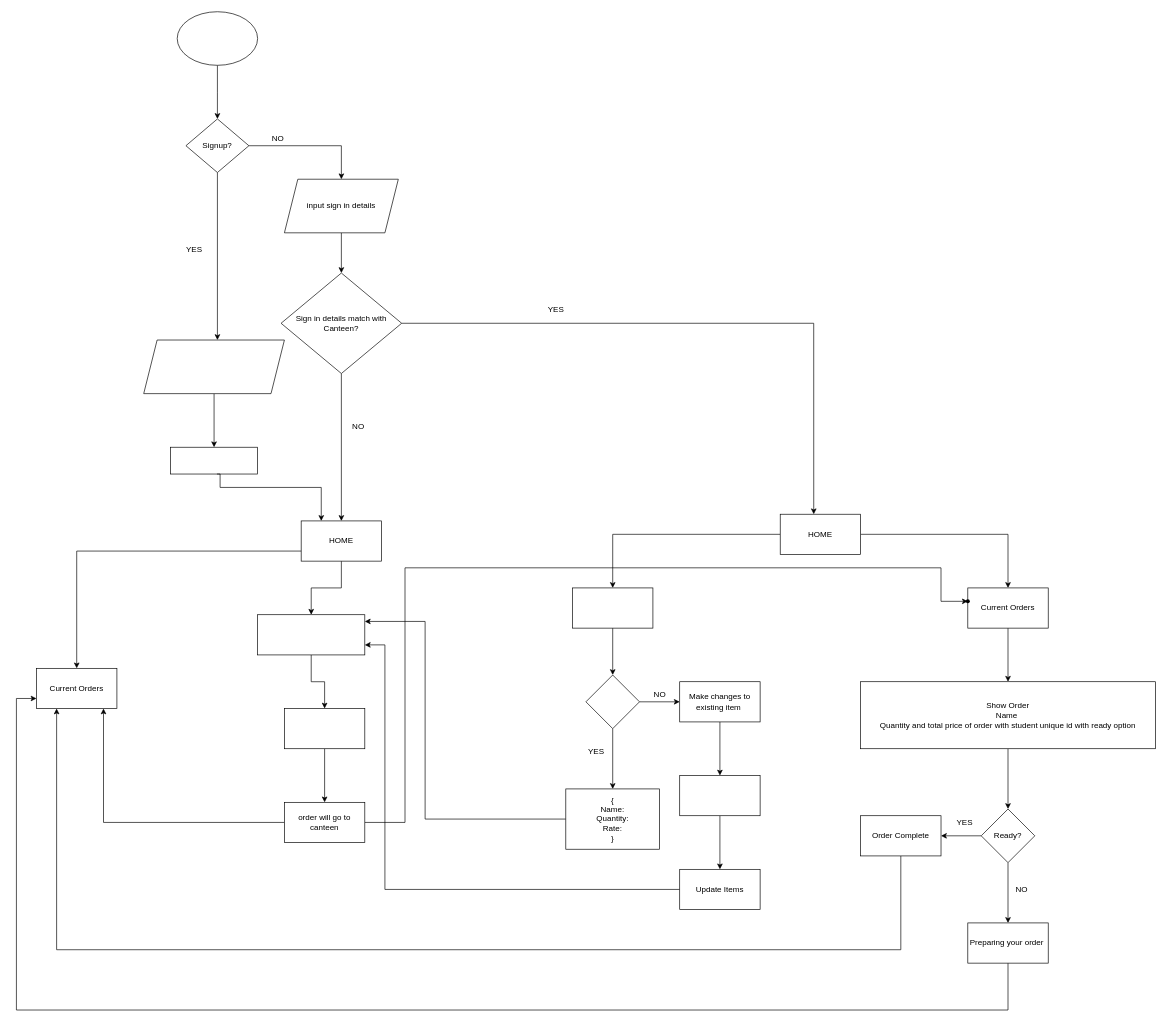
Image size: 1167x1027. Some labels were removed from this diagram. Each missing label, with the centre of its shape:
Add Menu: the point at 612,607
Food item with quantity/rate and add button to add in cart: the point at 311,634
input signup details: the point at 213,366
New Item?: the point at 612,701
Order: the point at 324,728
quantiy +/- rate +/-: the point at 719,795
Start: the point at 217,38
verify email: the point at 214,460
